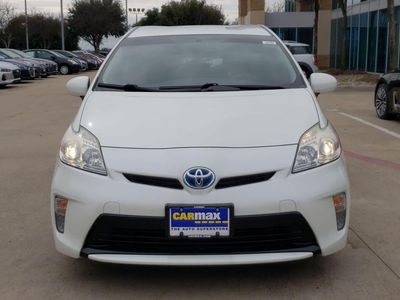Toyota Prius: (47, 22, 354, 270)
